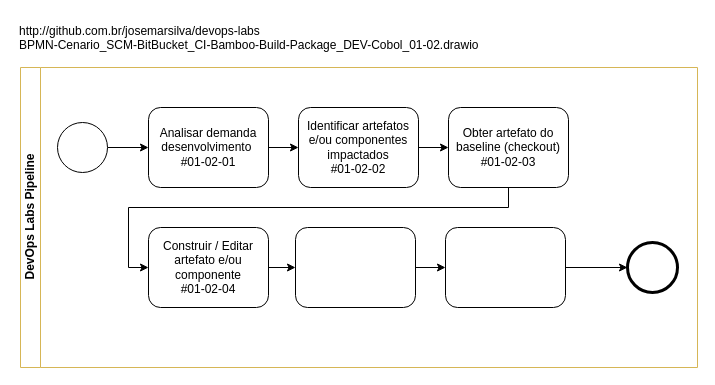
This 715x385 diagram has some shape labels left out. The shapes that lost their labels are listed below. From the top down, each one's centre as x and y in pixels, then its label:
At point (355, 267): "Criar novo artefato em baseline #01-02-05".
At point (505, 267): "Executar compilação e/ou validação em ambiente DEV #01-02-06".
